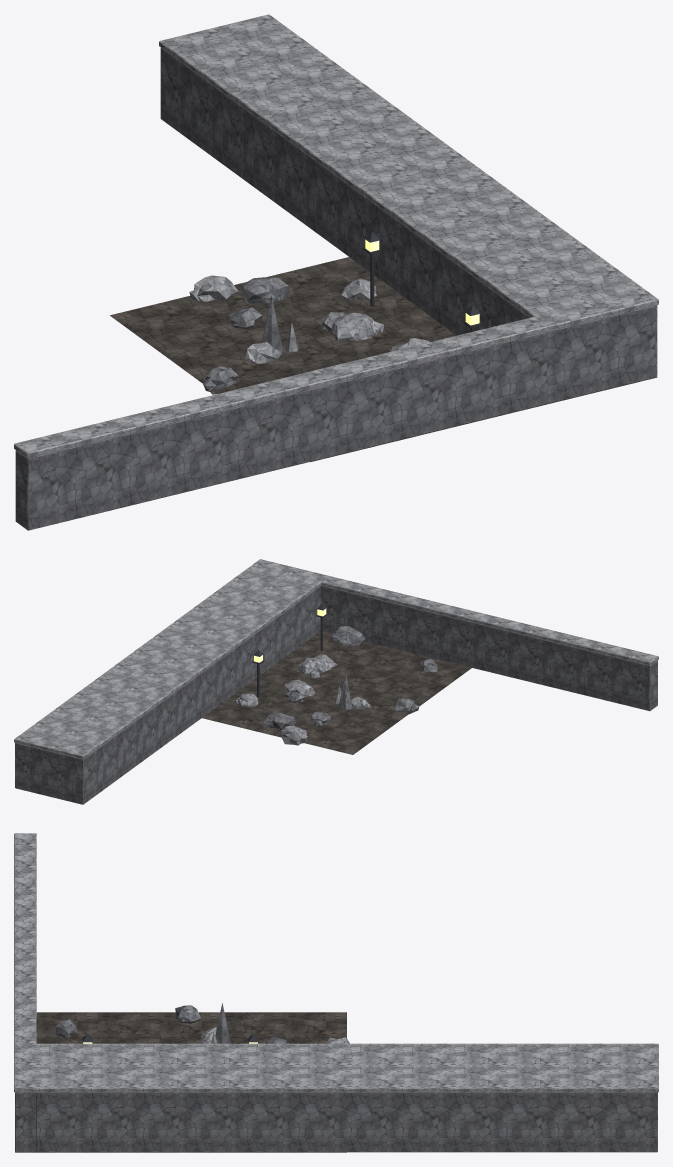
The model's file is chunk_7_19.glb.
3 views of the same model, one above another, from view 1: azimuth 30°, elevation 25°; view 2: azimuth 150°, elevation 25°; view 3: azimuth 270°, elevation 25° (orthographic). The views are drawn at different scales.
Parts seen in each view (by area): view 1: chunk_7_19; view 2: chunk_7_19; view 3: chunk_7_19.
Boxes of the visible parts, <box> form: chunk_7_19: <box>14,14,658,530</box>; chunk_7_19: <box>14,559,658,804</box>; chunk_7_19: <box>14,833,658,1152</box>.
Size of the model in its own units: 29.1 by 4.03 by 31.1.
Materials: 6 (4 with a texture image).
